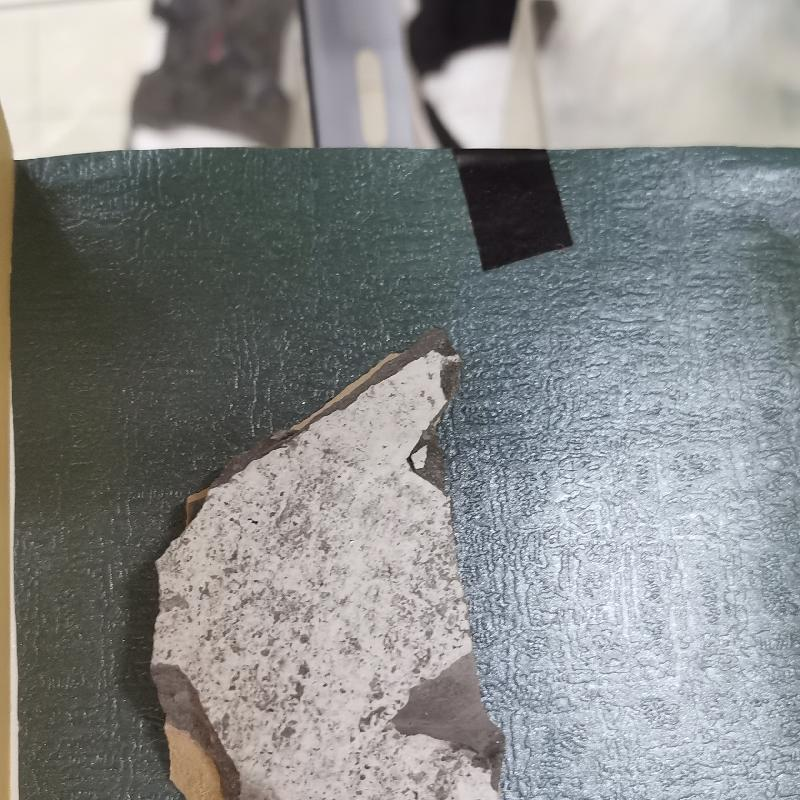tile: (99, 330, 544, 800)
